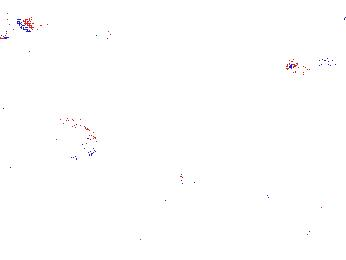X-ray fish: (43, 119, 102, 165), (303, 4, 329, 39)
glassfish: (154, 135, 190, 203), (115, 196, 172, 226)
red belly glassfish: (285, 53, 332, 75)
redtail glassfish: (104, 27, 165, 56), (181, 1, 248, 21)
